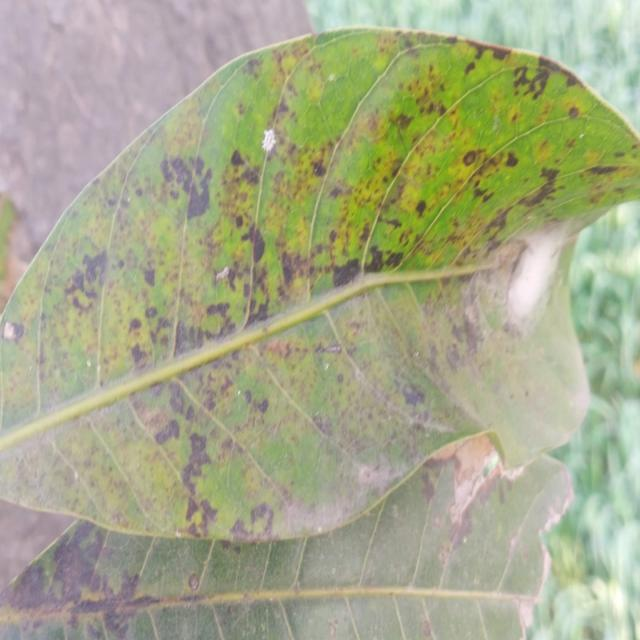Anthracnose: (185, 434, 214, 534), (141, 311, 197, 359), (75, 256, 110, 308), (185, 172, 215, 227), (243, 219, 274, 265), (328, 253, 365, 291)
Bacterial Cancer: (458, 443, 506, 500)
Powdery Mildew: (500, 221, 570, 320), (262, 127, 280, 153)
